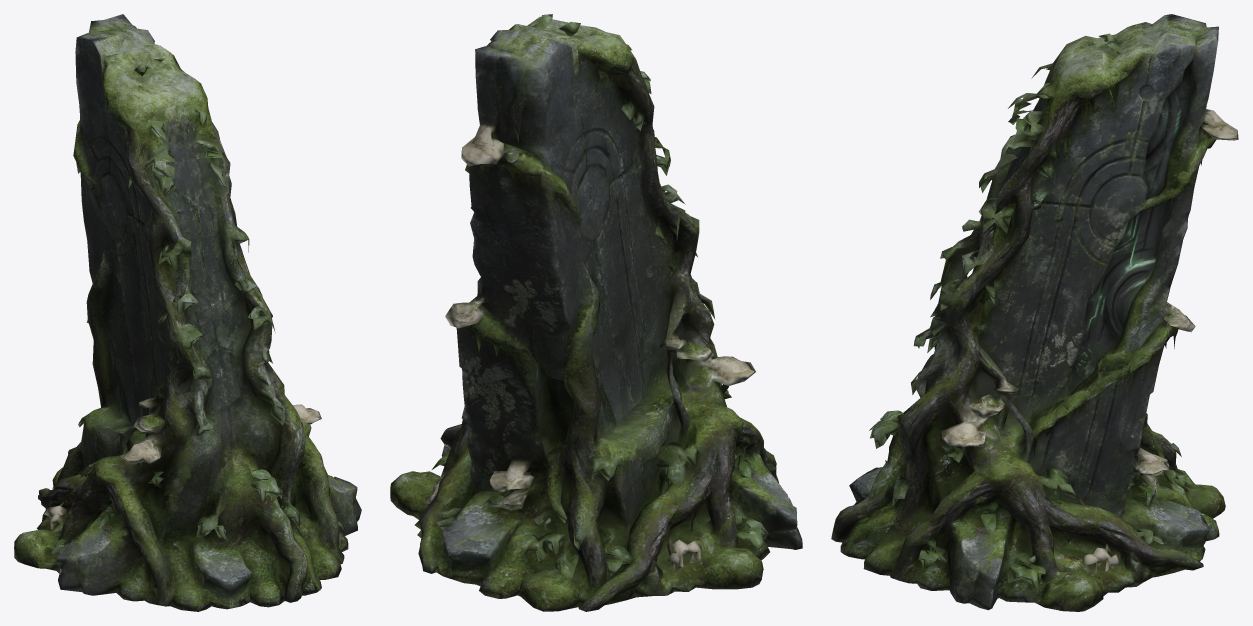
The model's file is env_bw_stone.glb.
3 renders of one model, left to right at view 1: azimuth 30°, elevation 25°; view 2: azimuth 150°, elevation 25°; view 3: azimuth 270°, elevation 25°, orthographic. The views are drawn at different scales.
Parts seen in each view (by area): view 1: tripo_node_3a38a5af-f505-4076-88c2-c3cf3413f96e; view 2: tripo_node_3a38a5af-f505-4076-88c2-c3cf3413f96e; view 3: tripo_node_3a38a5af-f505-4076-88c2-c3cf3413f96e.
Boxes of the visible parts, x1,y1,x2,y2 form: tripo_node_3a38a5af-f505-4076-88c2-c3cf3413f96e: (14,14,361,611); tripo_node_3a38a5af-f505-4076-88c2-c3cf3413f96e: (390,14,802,611); tripo_node_3a38a5af-f505-4076-88c2-c3cf3413f96e: (831,14,1238,611).
Size of the model in its own units: 0.6978 by 1 by 0.7368.
1 material, 1 textured.
